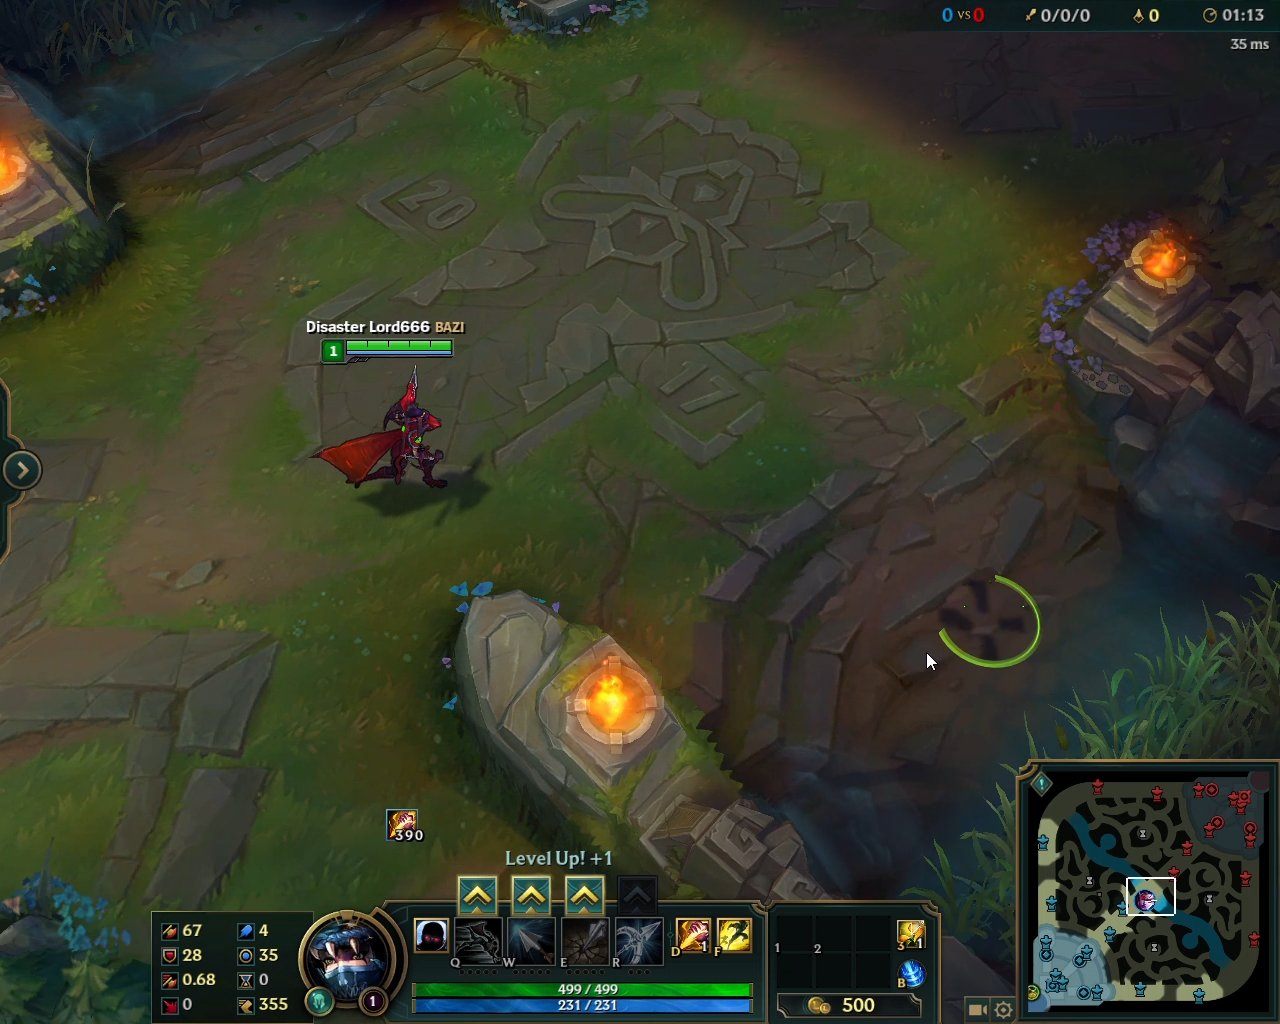Vayne: (302, 360, 447, 502)
